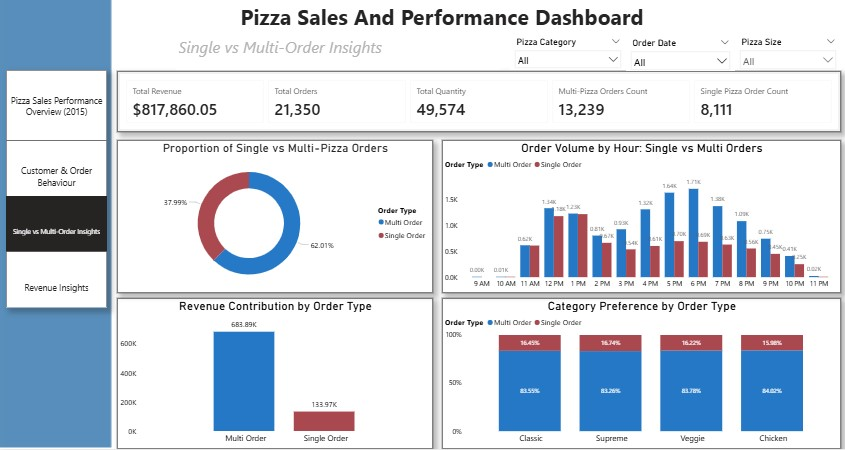

What the dashboard file says about the page in this screenshot:
{"tool":"powerbi","page":{"name":"Single vs Multi-Order Insights","canvas":[1700,900],"ordinal":2},"visuals":[{"type":"cardVisual","fields":{"Data":["Sheet1.Total Revenue","Sheet1.Total Orders","Sheet1.Total Quantity","Sheet1.Multi-Pizza Orders Count","Sheet1.Single Pizza Order Count"]},"box":[236,144,1448,122],"z":0},{"type":"textbox","box":[366,0,1040,70],"z":1000},{"type":"slicer","title":"Order Date","fields":{"Values":["Sheet1.order_date"]},"box":[1254,72,218,72],"z":2000},{"type":"slicer","fields":{"Values":["Sheet1.pizza_category"]},"box":[1022,70,232,72],"z":3000},{"type":"slicer","fields":{"Values":["Sheet1.pizza_size"]},"box":[1472,70,212,72],"z":4000},{"type":"textbox","box":[354,68,648,74],"z":5000},{"type":"donutChart","title":"Proportion of Single vs Multi-Pizza Orders","fields":{"Category":["OrdersSummary.OrderType1"],"Y":["CountNonNull(OrdersSummary.order_id)"]},"box":[236,282,632,306],"z":6000},{"type":"clusteredColumnChart","title":"Revenue Contribution by Order Type","fields":{"Category":["OrdersSummary.OrderType1"],"Y":["Sum(OrdersSummary.Total Revenue)"]},"box":[236,598,632,302],"z":7000},{"type":"clusteredColumnChart","title":"Order Volume by Hour: Single vs Multi Orders","fields":{"Category":["Hour.HourLabel"],"Y":["Sheet1.Total Orders"],"Series":["OrdersSummary.OrderType1"]},"box":[886,282,798,306],"z":8000},{"type":"hundredPercentStackedColumnChart","title":"Category Preference by Order Type","fields":{"Series":["OrdersSummary.OrderType1"],"Category":["Sheet1.pizza_category"],"Y":["Sum(Sheet1.quantity)"]},"box":[886,598,798,302],"z":9000},{"type":"pageNavigator","box":[14,142,202,476],"z":10000}]}

Visuals, with their boxes on the page's 1700x900 design canvas (x1, y1, x2, y2). These are canvas units, not pixel positions in the 845x450 screenshot, which may show the page scaled, cropped or inside an application window:
cardVisual - Sheet1.Total Revenue x Sheet1.Total Orders: left=236, top=144, right=1684, bottom=266
textbox: left=366, top=0, right=1406, bottom=70
"Order Date" slicer: left=1254, top=72, right=1472, bottom=144
slicer - Sheet1.pizza_category: left=1022, top=70, right=1254, bottom=142
slicer - Sheet1.pizza_size: left=1472, top=70, right=1684, bottom=142
textbox: left=354, top=68, right=1002, bottom=142
"Proportion of Single vs Multi-Pizza Orders" donutChart: left=236, top=282, right=868, bottom=588
"Revenue Contribution by Order Type" clusteredColumnChart: left=236, top=598, right=868, bottom=900
"Order Volume by Hour: Single vs Multi Orders" clusteredColumnChart: left=886, top=282, right=1684, bottom=588
"Category Preference by Order Type" hundredPercentStackedColumnChart: left=886, top=598, right=1684, bottom=900
pageNavigator: left=14, top=142, right=216, bottom=618
